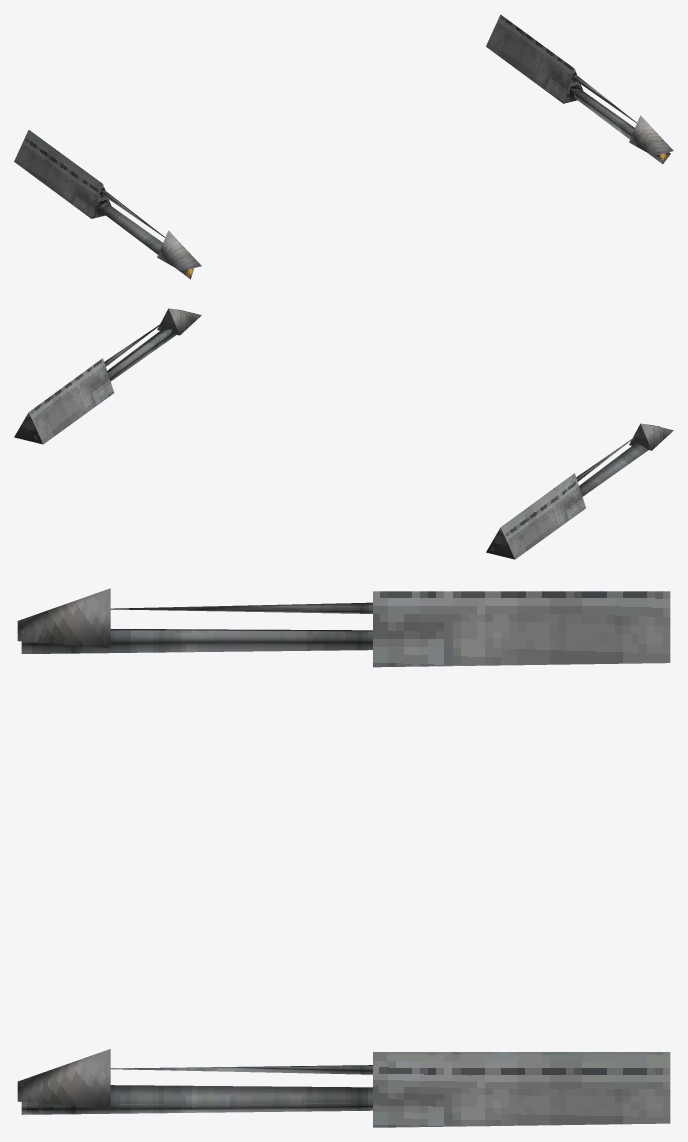
Rendered from awing_weapon_s06_l3.fbx.
3 views of the same model, one above another, from view 1: azimuth 30°, elevation 25°; view 2: azimuth 150°, elevation 25°; view 3: azimuth 270°, elevation 25° (orthographic). The views are drawn at different scales.
Parts seen in each view (by area): view 1: mesh_node; view 2: mesh_node; view 3: mesh_node.
Boxes of the visible parts, x1,y1,x2,y2 form: mesh_node: (14, 14, 673, 279); mesh_node: (14, 308, 673, 559); mesh_node: (17, 588, 670, 1127).
Size of the model in its own units: 9.29 by 0.6013 by 5.24.
